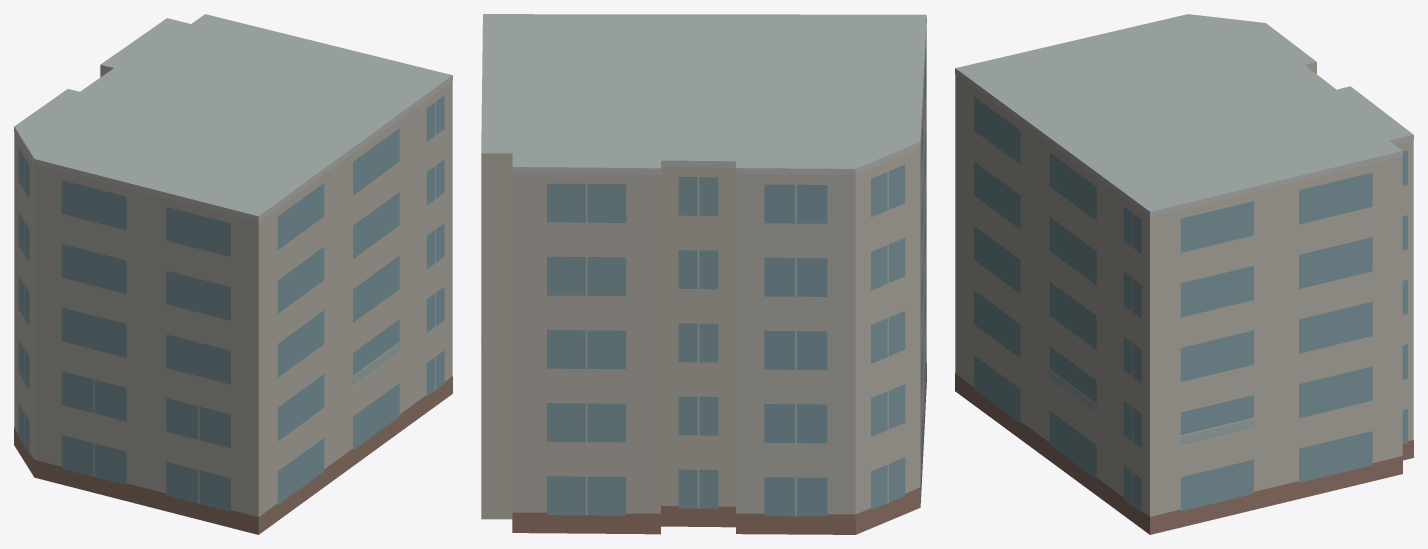
File: survey-upis-32746574.glb
The picture shows the model from 3 angles, left to right: view 1: azimuth 30°, elevation 25°; view 2: azimuth 150°, elevation 25°; view 3: azimuth 270°, elevation 25°; orthographic projection. The views are drawn at different scales.
Parts seen in each view (by area): view 1: survey-upis-32746574.tmp; view 2: survey-upis-32746574.tmp; view 3: survey-upis-32746574.tmp.
Part boxes in pixels (left/top/right/bottom): survey-upis-32746574.tmp: left=14, top=14, right=452, bottom=534; survey-upis-32746574.tmp: left=481, top=14, right=926, bottom=534; survey-upis-32746574.tmp: left=955, top=14, right=1413, bottom=534.
Size of the model in its own units: 18.26 by 13.9 by 17.89.
